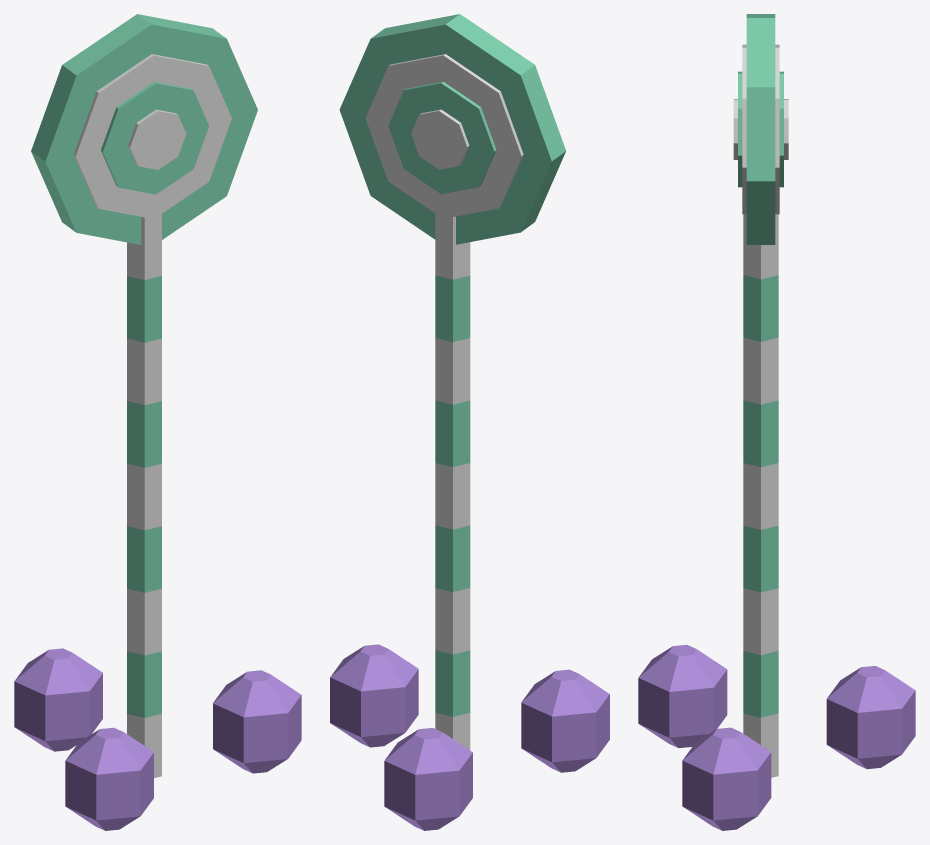
File: towerB.glb
The picture shows the model from 3 angles, left to right: view 1: azimuth 30°, elevation 25°; view 2: azimuth 150°, elevation 25°; view 3: azimuth 270°, elevation 25°; orthographic projection.
Visible parts, largest first — view 1: candyLand-towerB; view 2: candyLand-towerB; view 3: candyLand-towerB.
Boxes of the visible parts, x1,y1,x2,y2 form: candyLand-towerB: [14, 14, 301, 830]; candyLand-towerB: [330, 14, 609, 830]; candyLand-towerB: [638, 14, 915, 830].
Size of the model in its own units: 0.3912 by 1.16 by 0.3832.
